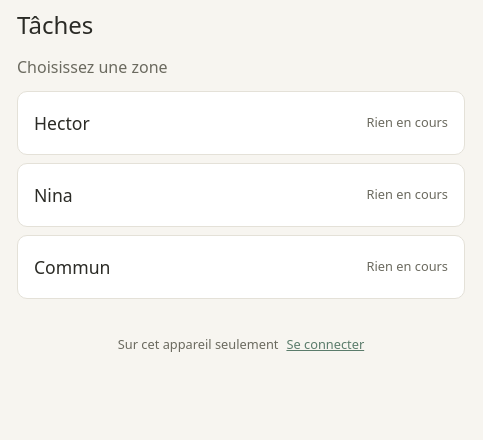
Scenario: App › cancelling an edit leaves the task unchanged
Click the button "Hector Rien en cours" at (62, 123), box [17, 91, 465, 155]
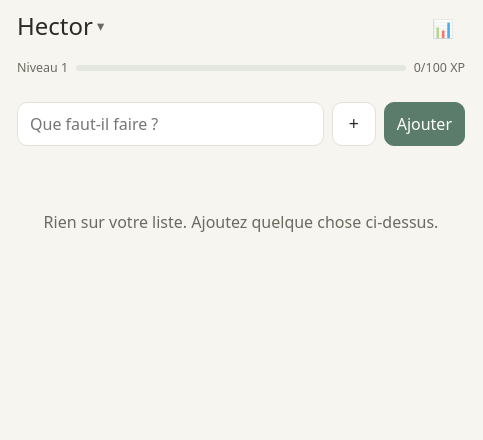
Type "Acheter du lait" into the field named "Nouvelle tâche" at (170, 124), box [17, 102, 324, 146]
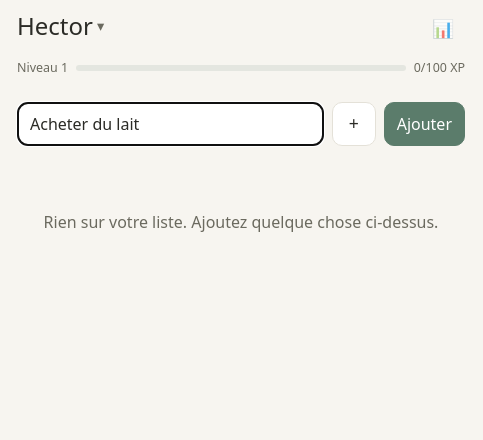
Click the button "Ajouter" at (424, 124), box [384, 102, 465, 146]
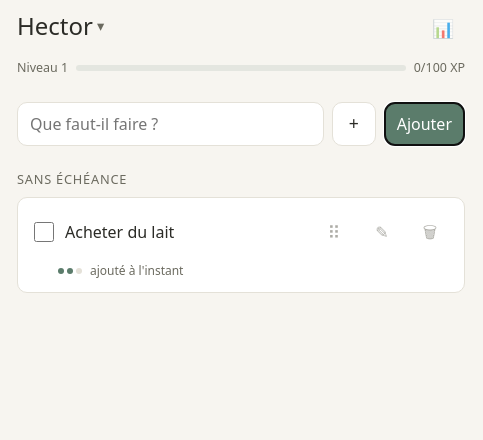
Click the button named "Modifier Acheter du lait" at (382, 232), box [360, 210, 404, 254]
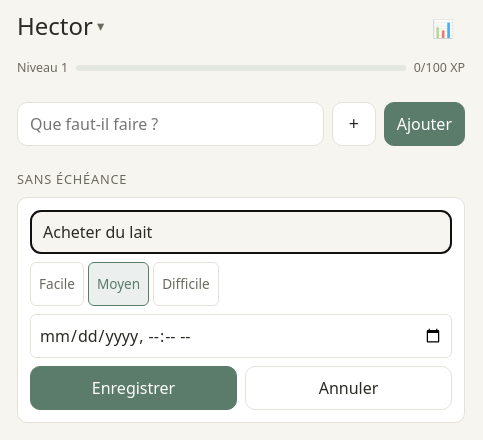
Replace the text in the field named "Modifier le texte de la tâche" with "Autre chose" at (241, 232), box [30, 210, 452, 254]
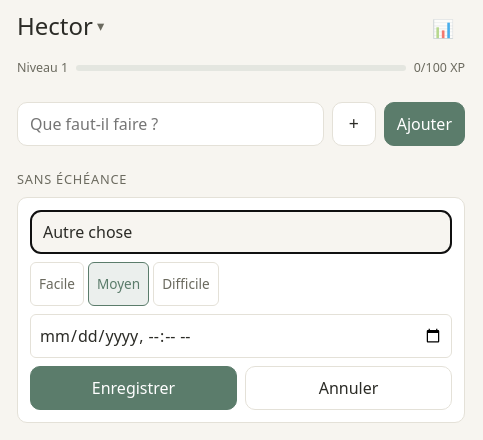
Click the button "Annuler" at (348, 388), box [245, 366, 452, 410]
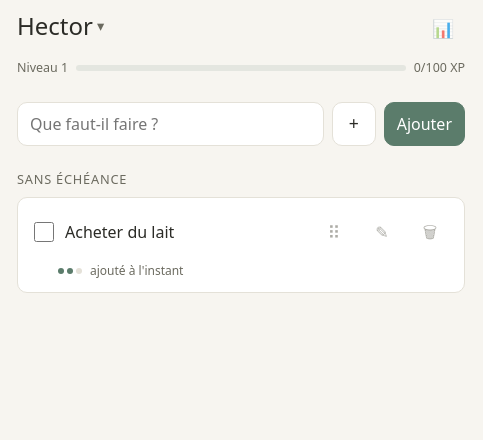
Check: the text "Autre chose" is not shown
Check: the text "Acheter du lait" is shown, box [65, 220, 174, 244]
